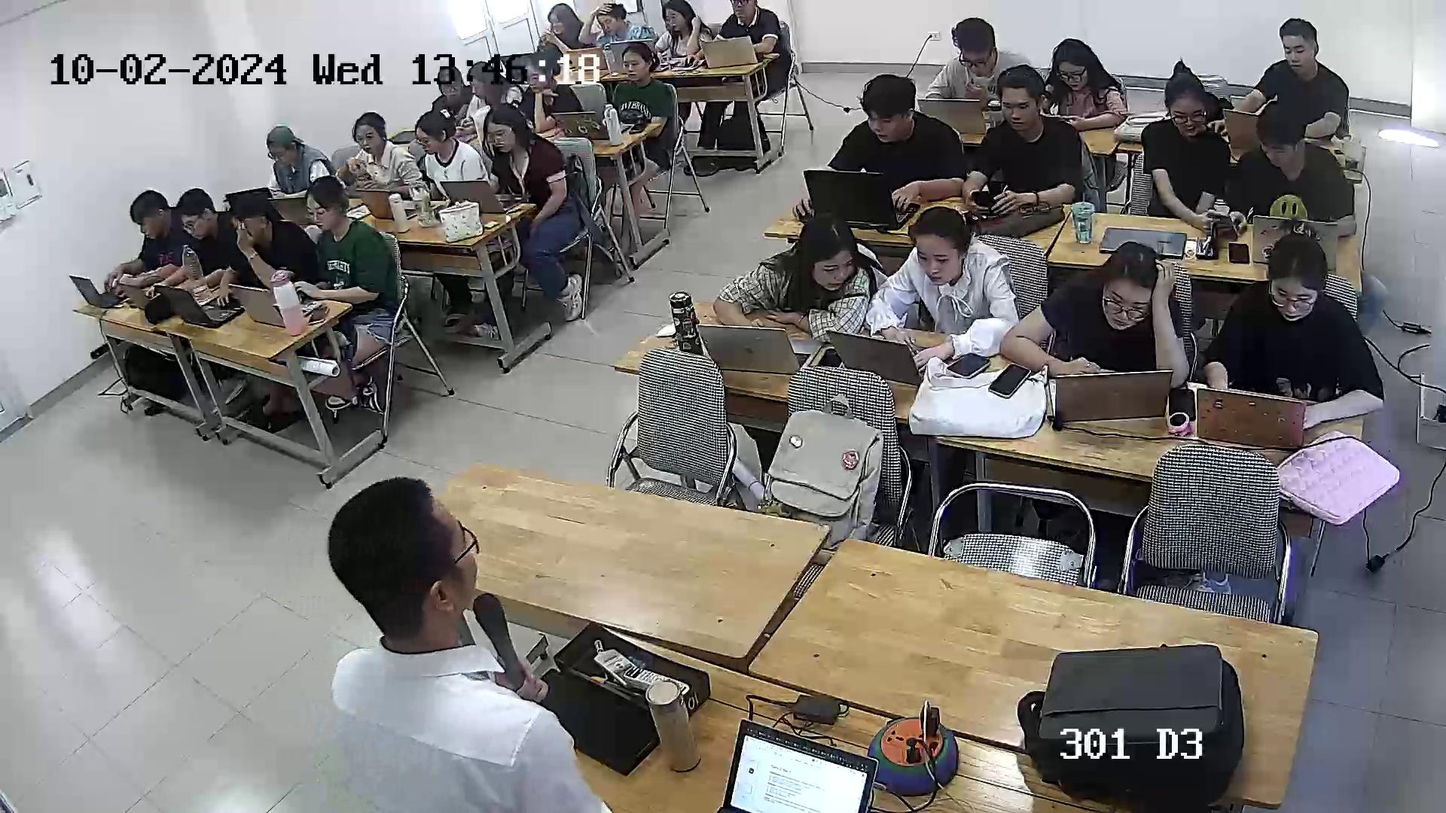Look Around: (1253, 97, 1309, 177)
Stand Up: (286, 474, 572, 813)
phone: (1206, 195, 1235, 240), (970, 182, 1007, 216), (1061, 108, 1081, 132)
